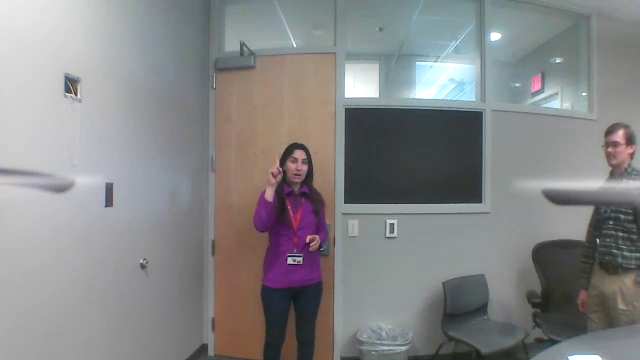up: (262, 152, 287, 190)
